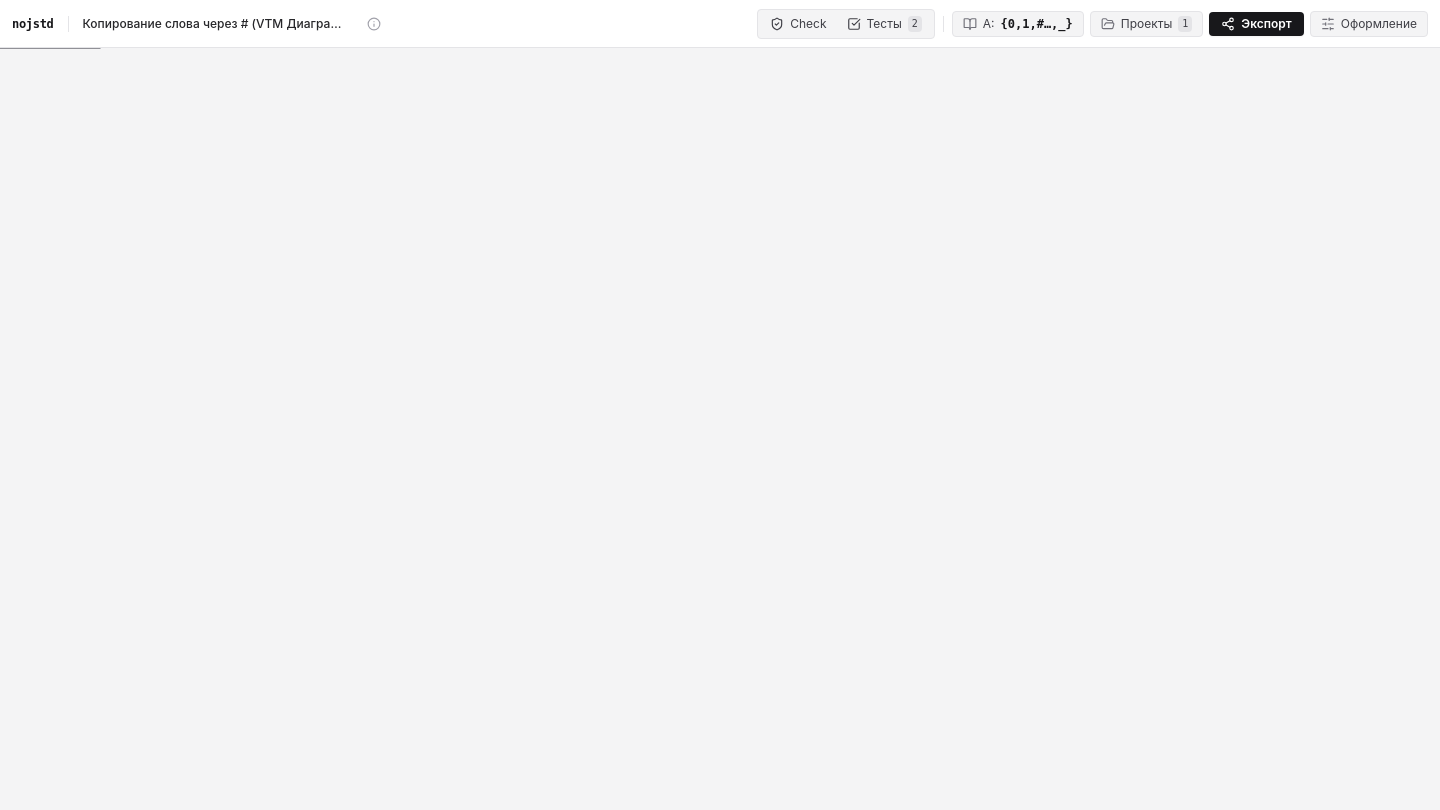
it: React UI Components › opens cosmetic settings popup from HeaderNavbar and updates theme, canvas, and edge rule visibility
Later steps or results of the test are not shown.
Click the button with aria-label "Настройки оформления диаграммера". click: (1369, 24)
box: [1310, 10, 1428, 36]
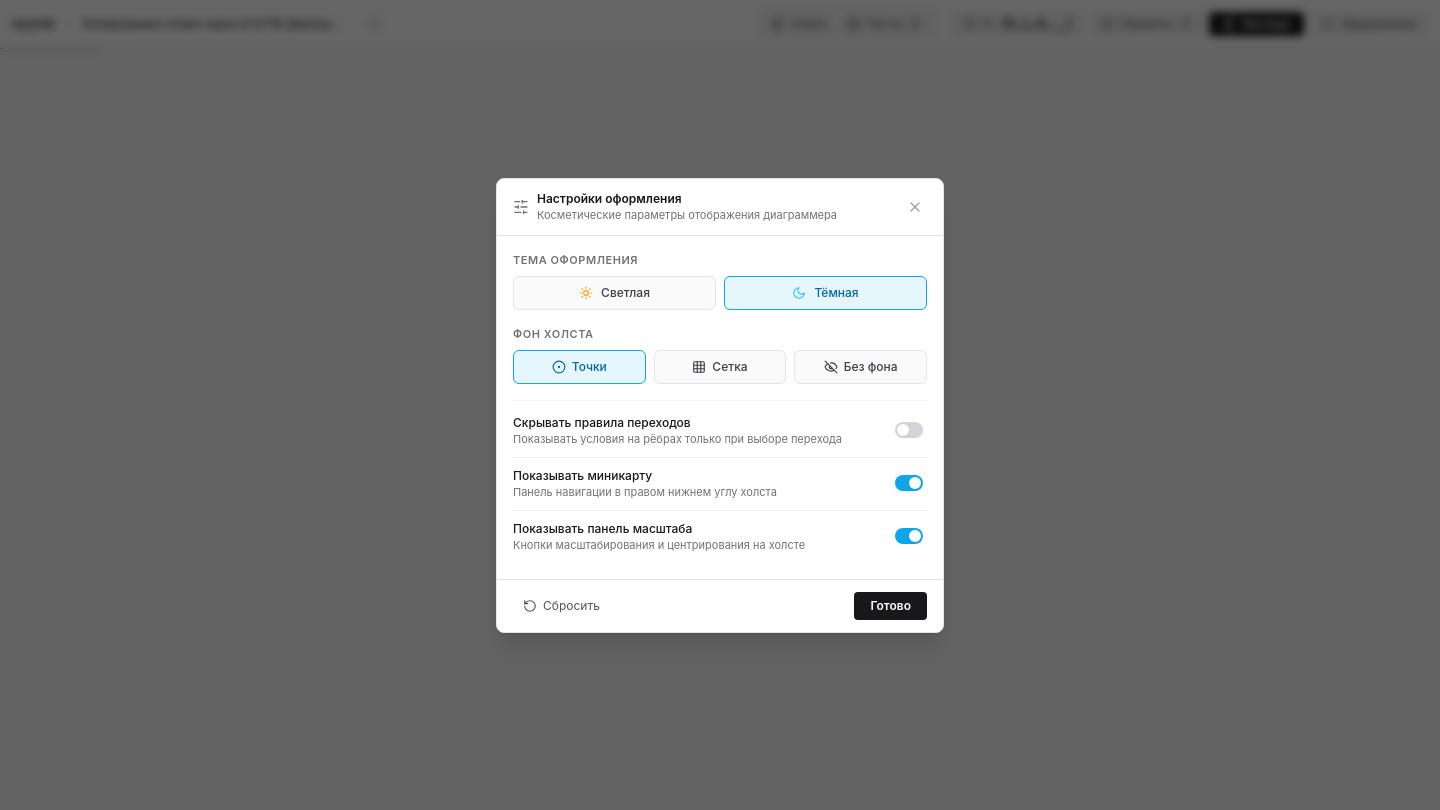
Result: the dialog named "Настройки оформления диаграммера" is shown at [496, 178, 944, 632]
Theme switching
Click the button "Светлая". click: (614, 292)
box: [513, 276, 716, 310]
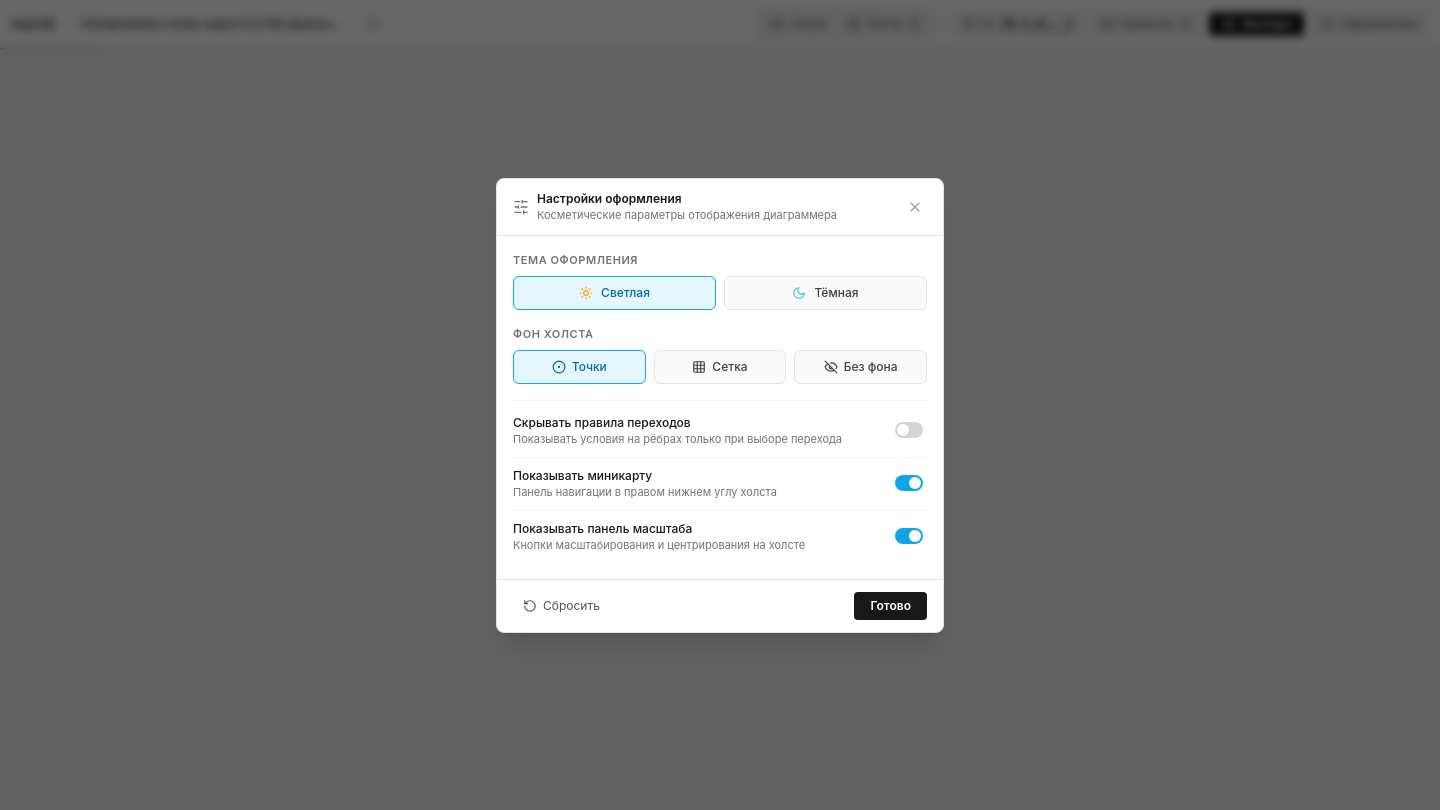
Canvas background switching
Click the button "Сетка". click: (720, 366)
box: [654, 350, 786, 384]
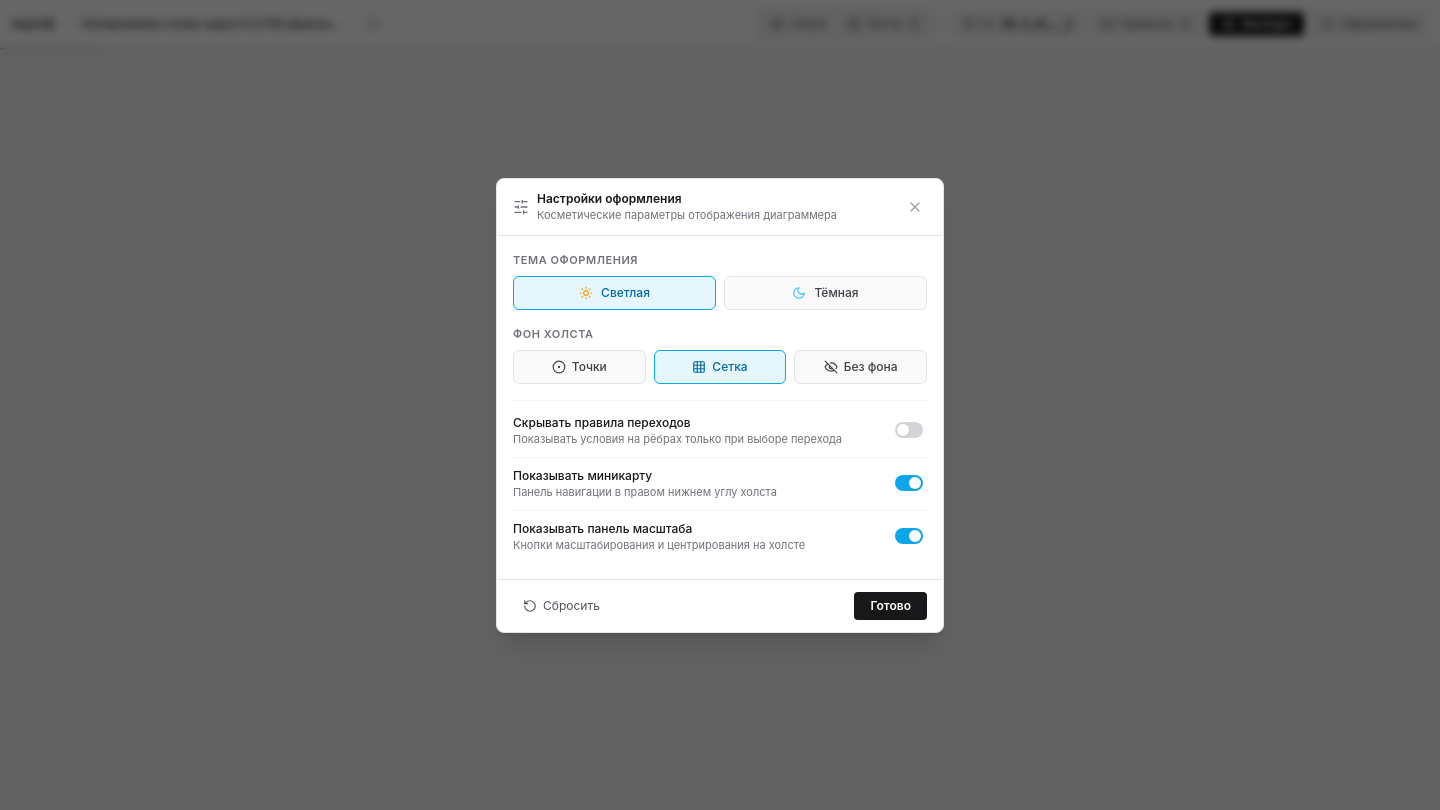
MiniMap and Canvas Controls toggles
Click the switch named "Показывать миникарту". click: (909, 484)
box: [891, 470, 927, 496]
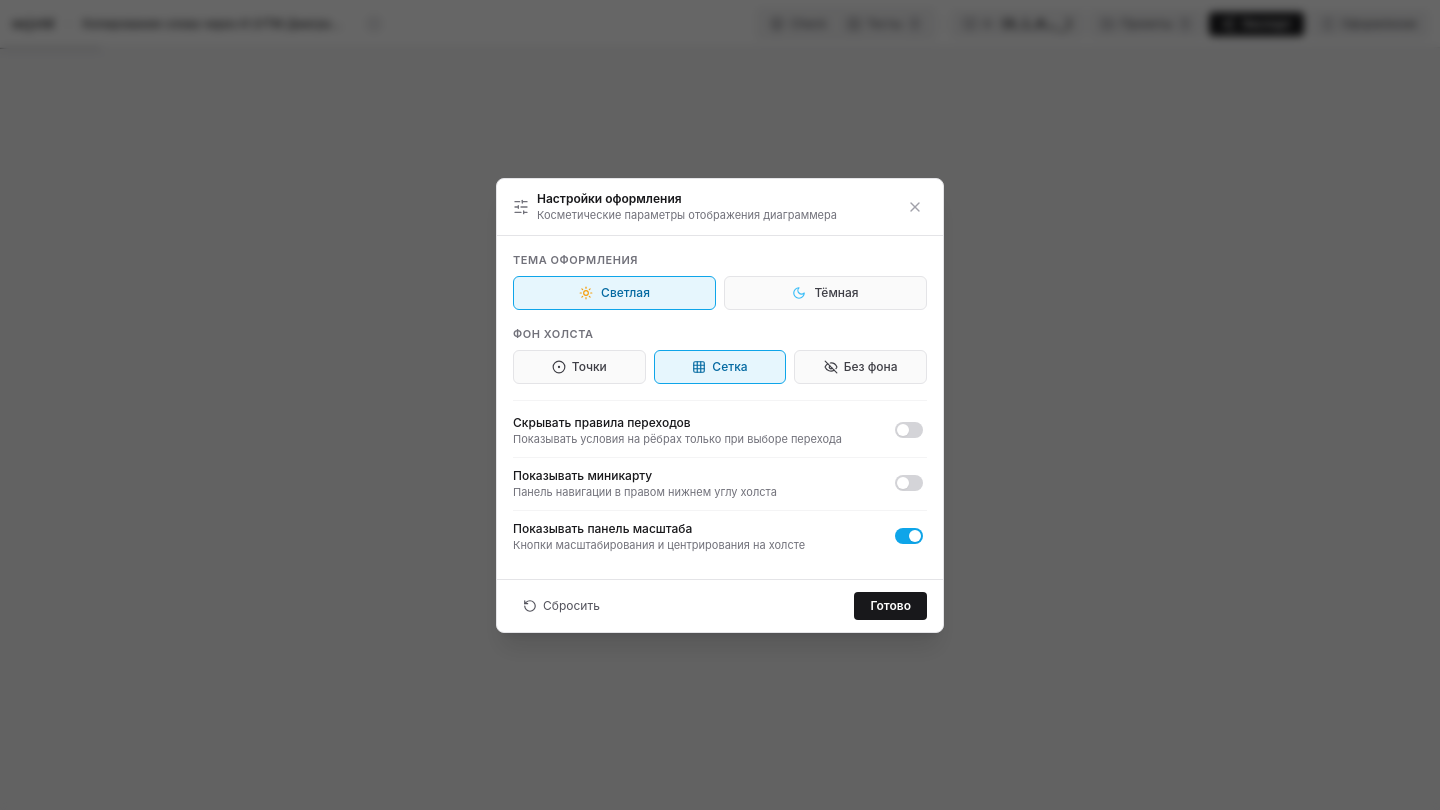
Click the switch named "Показывать панель масштаба". click: (909, 536)
box: [891, 524, 927, 550]
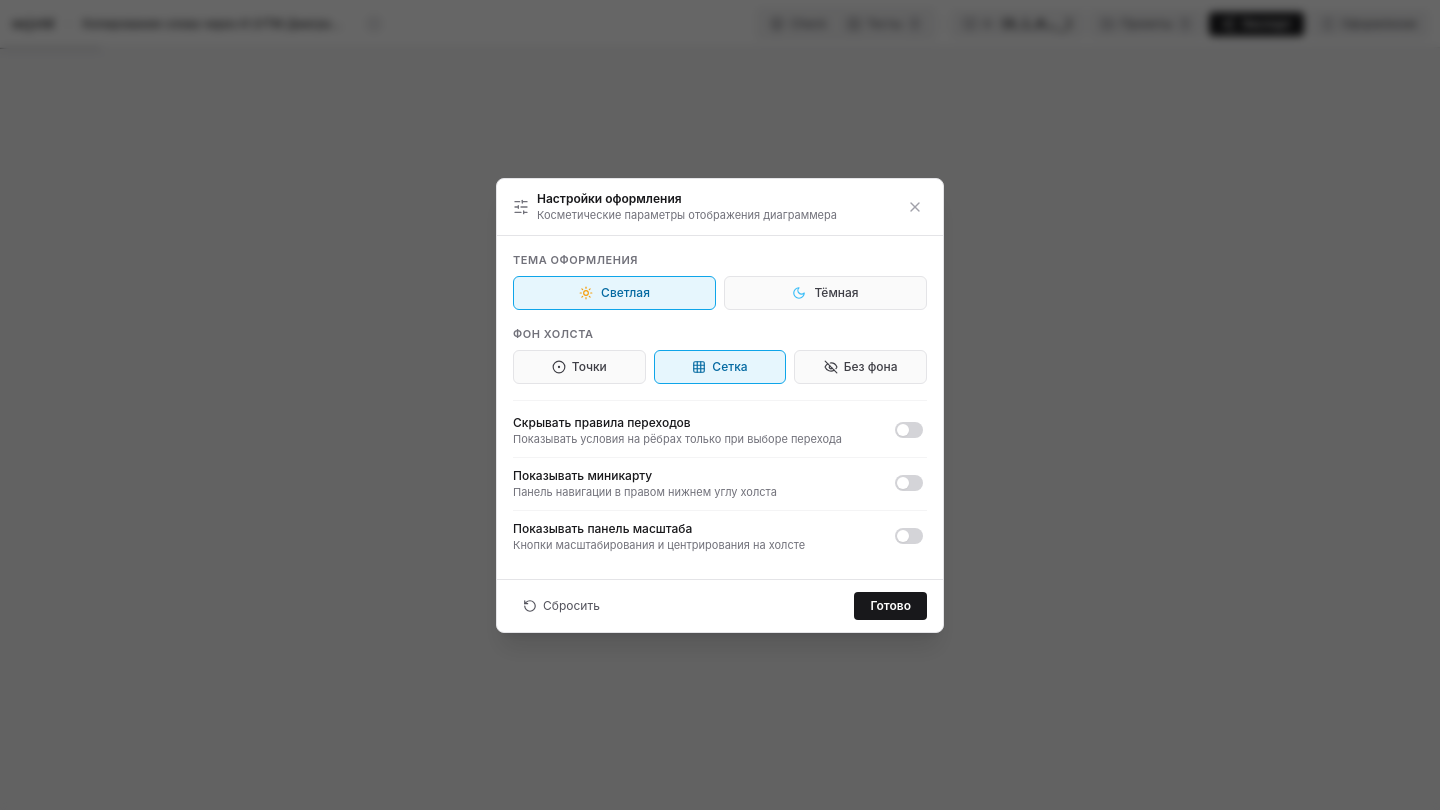
Click the switch named "Скрывать правила переходов". click: (909, 430)
box: [891, 418, 927, 444]
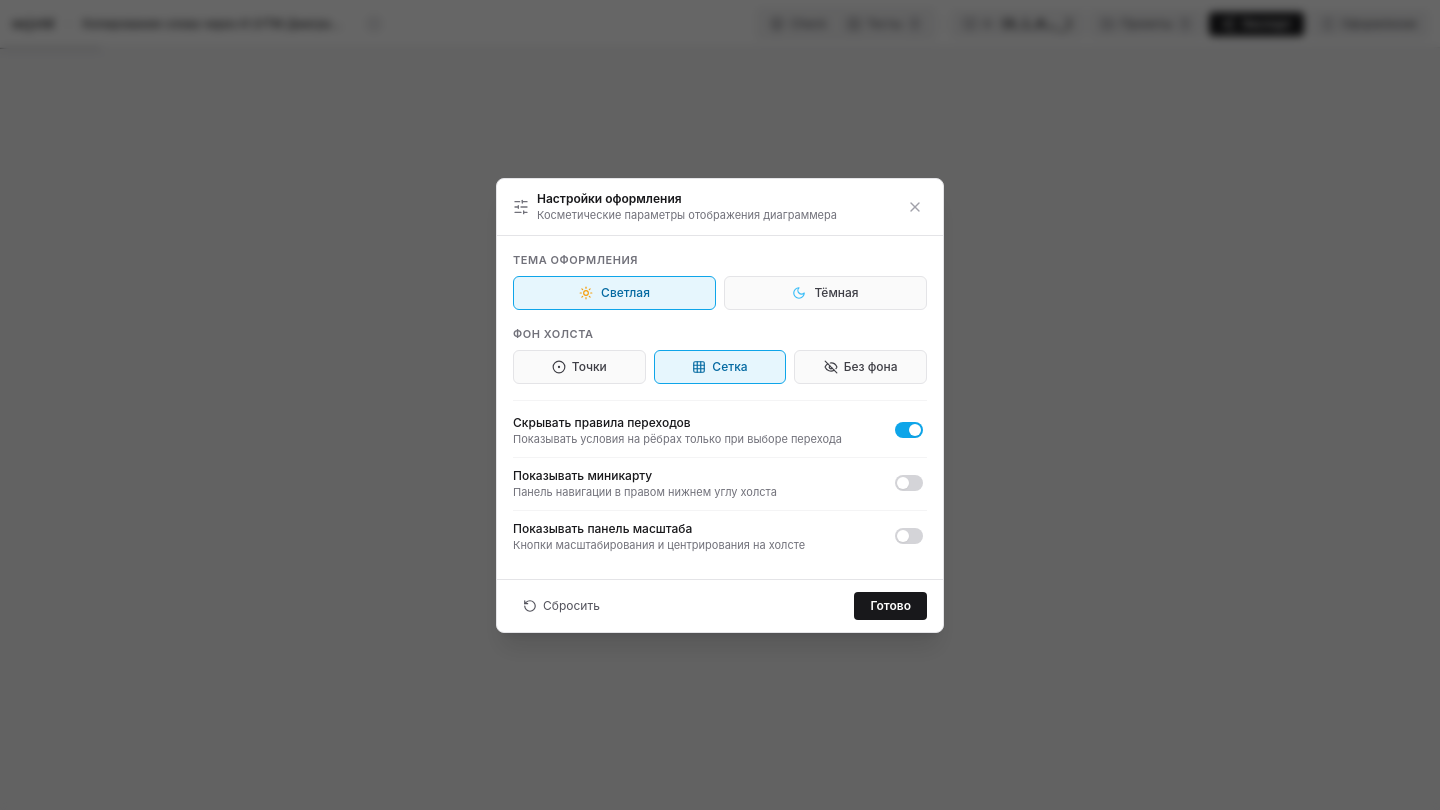
Result: the switch named "Скрывать правила переходов" is checked at [891, 418, 927, 444]
